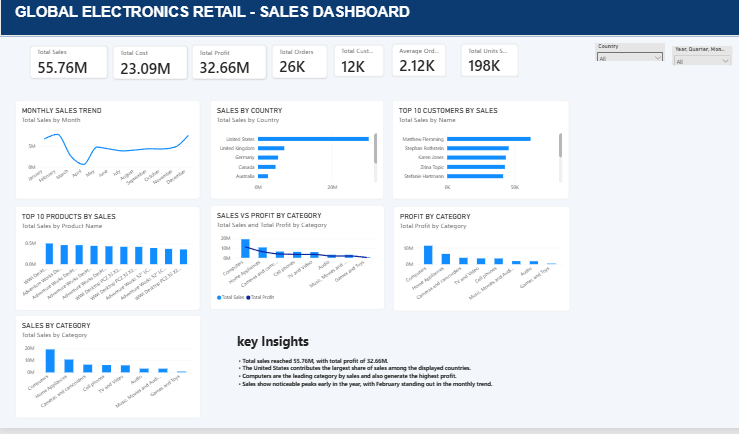

The dashboard page shown, as its layout file describes it:
{"tool":"powerbi","page":{"name":"Page 1","canvas":[1920,1080],"ordinal":0},"visuals":[{"type":"cardVisual","fields":{"Data":["Sales.Total Sales"]},"box":[72.5,85,157.5,82.5],"z":0},{"type":"cardVisual","fields":{"Data":["Sales.Total Cost"]},"box":[270,85,167.5,82.5],"z":1000},{"type":"cardVisual","fields":{"Data":["Sales.Total Profit"]},"box":[472.5,85,150,82.5],"z":2000},{"type":"cardVisual","fields":{"Data":["Sales.Total Orders"]},"box":[672.5,85,137.5,82.5],"z":3000},{"type":"cardVisual","fields":{"Data":["Sales.Total Customers"]},"box":[847.5,85,120,82.5],"z":4000},{"type":"cardVisual","fields":{"Data":["Sales.Average Order Value"]},"box":[1007.5,85,135,85],"z":5000},{"type":"cardVisual","fields":{"Data":["Sales.Total Units Sold"]},"box":[1195,85,142.5,85],"z":6000},{"type":"lineChart","title":"MONTHLY SALES TREND","fields":{"Category":["Sales.orderdate.Variation.Date Hierarchy.Year","Sales.orderdate.Variation.Date Hierarchy.Quarter","Sales.orderdate.Variation.Date Hierarchy.Month","Sales.orderdate.Variation.Date Hierarchy.Day"],"Y":["Sales.Total Sales"]},"box":[37.5,197.5,462.5,247.5],"z":7000},{"type":"clusteredColumnChart","title":"TOP 10 PRODUCTS BY SALES","fields":{"Category":["Products.Product Name"],"Y":["Sales.Total Sales"]},"box":[37.5,475,462.9,261.4],"z":8000},{"type":"clusteredColumnChart","title":"SALES BY CATEGORY","fields":{"Category":["Products.Category"],"Y":["Sales.Total Sales"]},"box":[35,762.5,465,257.5],"z":9000},{"type":"clusteredBarChart","title":"SALES BY COUNTRY","fields":{"Category":["Customers.Country"],"Y":["Sales.Total Sales"]},"box":[525,197.5,435,247.5],"z":10000},{"type":"clusteredColumnChart","title":"PROFIT BY CATEGORY","fields":{"Category":["Products.Category"],"Y":["Sales.Total Profit"]},"box":[980,472.5,442.5,262.5],"z":11000},{"type":"clusteredBarChart","title":"TOP 10 CUSTOMERS BY SALES","fields":{"Category":["Customers.Name"],"Y":["Sales.Total Sales"]},"box":[980,197.5,442.5,247.5],"z":12000},{"type":"lineClusteredColumnComboChart","title":"SALES VS PROFIT BY CATEGORY","fields":{"Category":["Products.Category"],"Y":["Sales.Total Sales"],"Y2":["Sales.Total Profit"]},"box":[517.5,472.5,442.5,262.5],"z":13000},{"type":"slicer","fields":{"Values":["Sales.orderdate.Variation.Date Hierarchy.Year","Sales.orderdate.Variation.Date Hierarchy.Quarter","Sales.orderdate.Variation.Date Hierarchy.Month","Sales.orderdate.Variation.Date Hierarchy.Day"]},"box":[1717.5,77.5,151.2,47.5],"z":14000},{"type":"slicer","fields":{"Values":["Customers.Country"]},"box":[1525,77.5,145,47.5],"z":15000},{"type":"tableEx","fields":{"Values":["Customers.Country","Sales.Total Sales"]},"box":[525,762.5,435,257.5],"z":16000},{"type":"textbox","box":[345,17.5,1077.5,60],"z":16001}]}

Visuals, with their boxes on the page's 1920x1080 design canvas (x1, y1, x2, y2). These are canvas units, not pixel positions in the 739x434 screenshot, which may show the page scaled, cropped or inside an application window:
cardVisual - Sales.Total Sales: {"left": 72, "top": 85, "right": 230, "bottom": 168}
cardVisual - Sales.Total Cost: {"left": 270, "top": 85, "right": 438, "bottom": 168}
cardVisual - Sales.Total Profit: {"left": 472, "top": 85, "right": 622, "bottom": 168}
cardVisual - Sales.Total Orders: {"left": 672, "top": 85, "right": 810, "bottom": 168}
cardVisual - Sales.Total Customers: {"left": 848, "top": 85, "right": 968, "bottom": 168}
cardVisual - Sales.Average Order Value: {"left": 1008, "top": 85, "right": 1142, "bottom": 170}
cardVisual - Sales.Total Units Sold: {"left": 1195, "top": 85, "right": 1338, "bottom": 170}
"MONTHLY SALES TREND" lineChart: {"left": 38, "top": 198, "right": 500, "bottom": 445}
"TOP 10 PRODUCTS BY SALES" clusteredColumnChart: {"left": 38, "top": 475, "right": 500, "bottom": 736}
"SALES BY CATEGORY" clusteredColumnChart: {"left": 35, "top": 762, "right": 500, "bottom": 1020}
"SALES BY COUNTRY" clusteredBarChart: {"left": 525, "top": 198, "right": 960, "bottom": 445}
"PROFIT BY CATEGORY" clusteredColumnChart: {"left": 980, "top": 472, "right": 1422, "bottom": 735}
"TOP 10 CUSTOMERS BY SALES" clusteredBarChart: {"left": 980, "top": 198, "right": 1422, "bottom": 445}
"SALES VS PROFIT BY CATEGORY" lineClusteredColumnComboChart: {"left": 518, "top": 472, "right": 960, "bottom": 735}
slicer - Sales.orderdate.Variation.Date Hierarchy.Year x Sales.orderdate.Variation.Date Hierarchy.Quarter: {"left": 1718, "top": 78, "right": 1869, "bottom": 125}
slicer - Customers.Country: {"left": 1525, "top": 78, "right": 1670, "bottom": 125}
tableEx - Customers.Country x Sales.Total Sales: {"left": 525, "top": 762, "right": 960, "bottom": 1020}
textbox: {"left": 345, "top": 18, "right": 1422, "bottom": 78}
